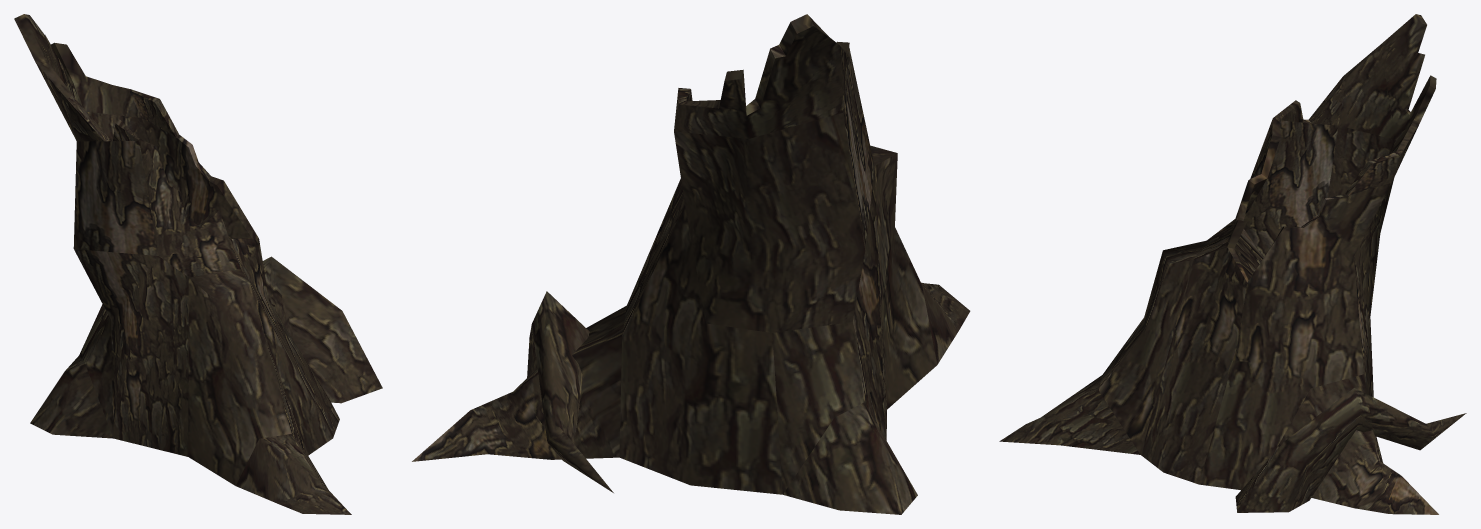
The model's file is Z_dashu002.fbx.
3 views of the same model, side by side, from view 1: azimuth 30°, elevation 25°; view 2: azimuth 150°, elevation 25°; view 3: azimuth 270°, elevation 25° (orthographic). The views are drawn at different scales.
Parts seen in each view (by area): view 1: Z_dashu002; view 2: Z_dashu002; view 3: Z_dashu002.
Part boxes in pixels (x1=…): Z_dashu002: x1=14, y1=14, x2=382, y2=514; Z_dashu002: x1=412, y1=14, x2=970, y2=514; Z_dashu002: x1=999, y1=14, x2=1466, y2=514.
Size of the model in its own units: 413 by 500 by 565.
